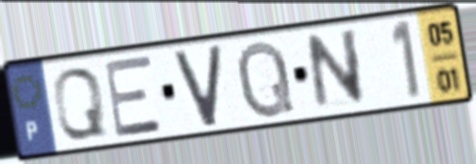1: (389, 17, 424, 102)
E: (101, 52, 167, 140)
N: (304, 25, 369, 114)
Q: (234, 37, 298, 122), (50, 65, 110, 143)
V: (170, 41, 225, 130)
